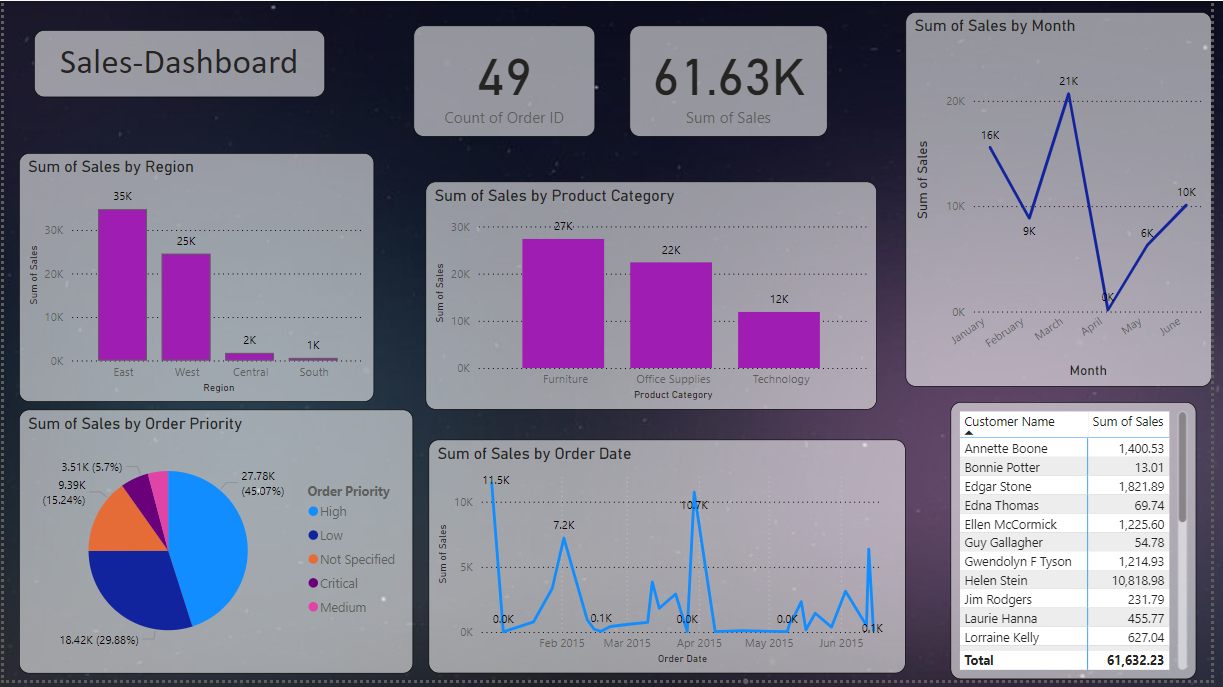

The page's visual inventory and layout, read from the dashboard file:
{"tool":"powerbi","page":{"name":"Page 1","canvas":[1280,720],"ordinal":0},"visuals":[{"type":"columnChart","fields":{"Category":["SQL Test Dataset - Orders.Region"],"Y":["Sum(SQL Test Dataset - Orders.Sales)"]},"box":[15.9,162.2,377,264],"z":0},{"type":"clusteredColumnChart","fields":{"Y":["Sum(SQL Test Dataset - Orders.Sales)"],"Category":["SQL Test Dataset - Orders.Product Category"]},"box":[447,192.5,478.8,241.8],"z":1000},{"type":"pieChart","fields":{"Category":["SQL Test Dataset - Orders.Order Priority"],"Y":["Sum(SQL Test Dataset - Orders.Sales)"]},"box":[15.9,434.2,418.3,279.9],"z":2000},{"type":"pivotTable","fields":{"Rows":["SQL Test Dataset - Orders.Customer Name"],"Values":["Sum(SQL Test Dataset - Orders.Sales)"]},"box":[1003.7,426.3,260.9,294.3],"z":3000},{"type":"card","fields":{"Values":["Sum(Orders.Sales)"]},"box":[663.3,27,210,117.7],"z":4000},{"type":"card","fields":{"Values":["CountNonNull(Returns.Order ID)"]},"box":[434.2,27,192.5,117.7],"z":5000},{"type":"lineChart","fields":{"Category":["SQL Test Dataset - Orders.Order Date.Variation.Date Hierarchy.Month"],"Y":["Sum(SQL Test Dataset - Orders.Sales)"]},"box":[956,12.7,324.5,397.7],"z":6000},{"type":"lineChart","fields":{"Y":["Sum(Orders.Sales)"],"Category":["Orders.Order Date"]},"box":[450.1,466,505.8,248.1],"z":7000},{"type":"textbox","box":[31.8,31.8,308.6,71.6],"z":8000}]}

Visuals, with their boxes in screenshot pixels (x1, y1, x2, y2), scaled from the page's 1280x720 canvas onto the 1223x687 screenshot:
columnChart - SQL Test Dataset - Orders.Region x Sum(SQL Test Dataset - Orders.Sales): x1=15 y1=155 x2=375 y2=407
clusteredColumnChart - Sum(SQL Test Dataset - Orders.Sales) x SQL Test Dataset - Orders.Product Category: x1=427 y1=184 x2=885 y2=414
pieChart - SQL Test Dataset - Orders.Order Priority x Sum(SQL Test Dataset - Orders.Sales): x1=15 y1=414 x2=415 y2=681
pivotTable - SQL Test Dataset - Orders.Customer Name x Sum(SQL Test Dataset - Orders.Sales): x1=959 y1=407 x2=1208 y2=686
card - Sum(Orders.Sales): x1=634 y1=26 x2=834 y2=138
card - CountNonNull(Returns.Order ID): x1=415 y1=26 x2=599 y2=138
lineChart - SQL Test Dataset - Orders.Order Date.Variation.Date Hierarchy.Month x Sum(SQL Test Dataset - Orders.Sales): x1=913 y1=12 x2=1222 y2=392
lineChart - Sum(Orders.Sales) x Orders.Order Date: x1=430 y1=445 x2=913 y2=681
textbox: x1=30 y1=30 x2=325 y2=99
